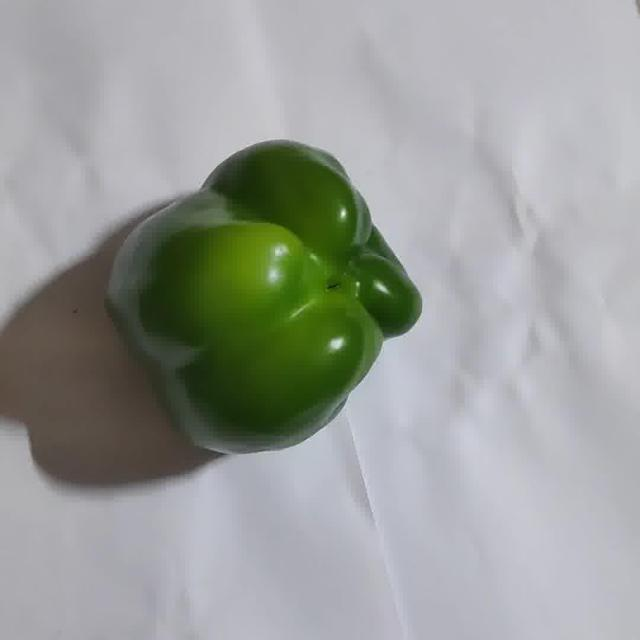Bell Pepper: (109, 141, 421, 455)
